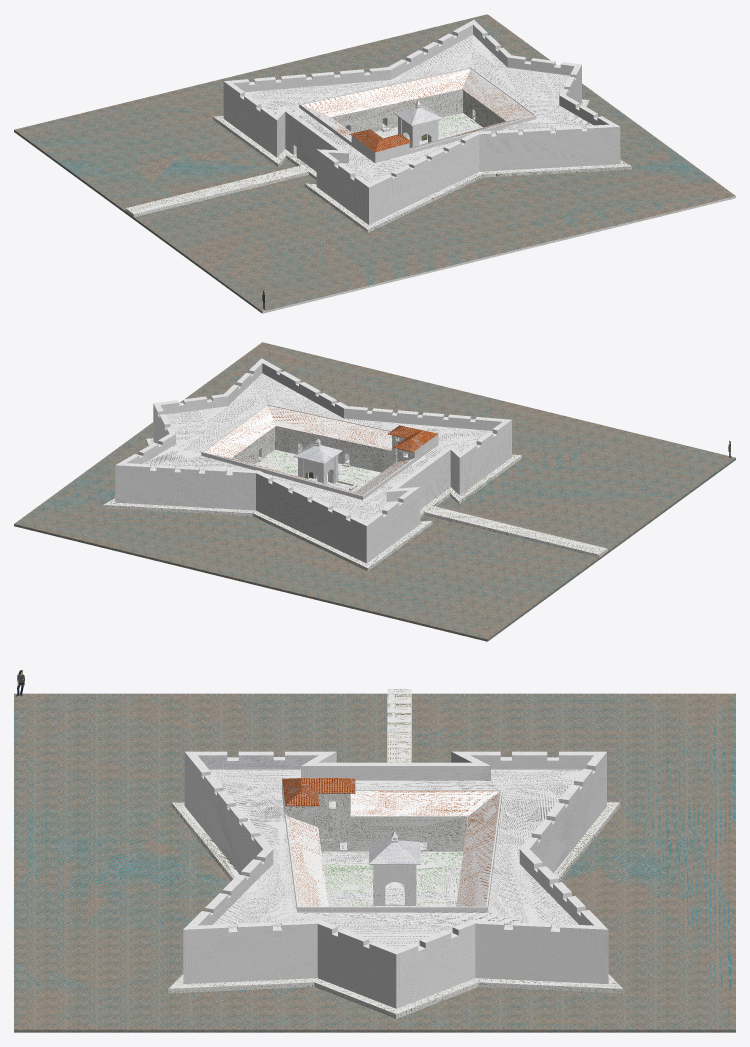
3 renders of one model, top to bottom at view 1: azimuth 30°, elevation 25°; view 2: azimuth 150°, elevation 25°; view 3: azimuth 270°, elevation 25°, orthographic. The views are drawn at different scales.
Parts seen in each view (by area): view 1: SketchUp (×13); view 2: SketchUp (×12); view 3: SketchUp (×16).
Part boxes in pixels (x1=…): SketchUp (×13): x1=14, y1=14, x2=735, y2=313; SketchUp (×12): x1=14, y1=342, x2=735, y2=641; SketchUp (×16): x1=14, y1=689, x2=735, y2=1032.
Size of the model in its own units: 1844 by 1675 by 183.
Materials: 19 (8 with a texture image).
